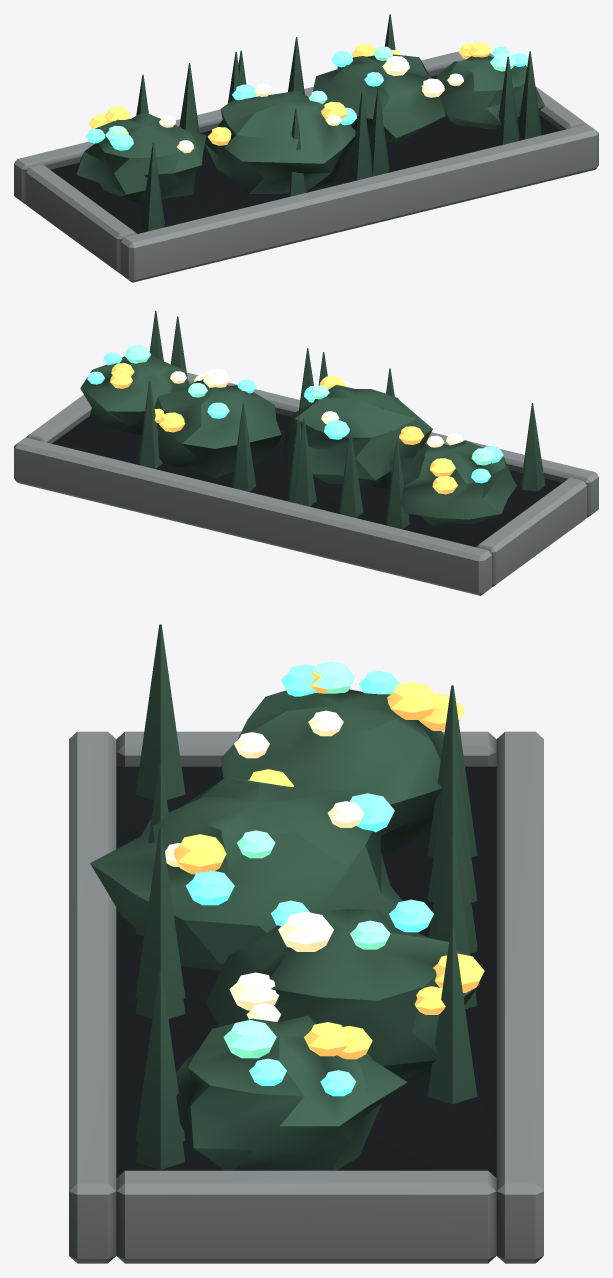
File: flower-bed.lod0.glb
3 renders of one model, top to bottom at view 1: azimuth 30°, elevation 25°; view 2: azimuth 150°, elevation 25°; view 3: azimuth 270°, elevation 25°, orthographic. The views are drawn at different scales.
Parts seen in each view (by area): view 1: structure; view 2: structure; view 3: structure.
Part boxes in pixels (bbox=[...]): structure: bbox=[14, 14, 598, 282]; structure: bbox=[14, 311, 598, 595]; structure: bbox=[69, 624, 543, 1263].
Bounding box in the file's own units: 3.2 × 0.7401 × 1.4.
